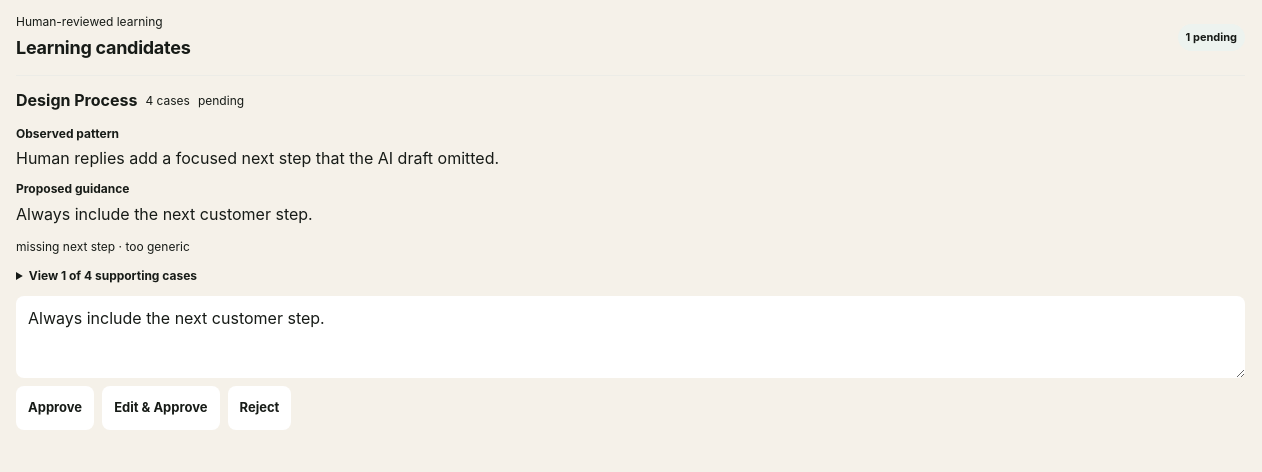
learning candidate review › shows a retryable error when an approval decision fails
Step 1. Click the button "Approve" → x=55, y=408, box [16,386,94,430]
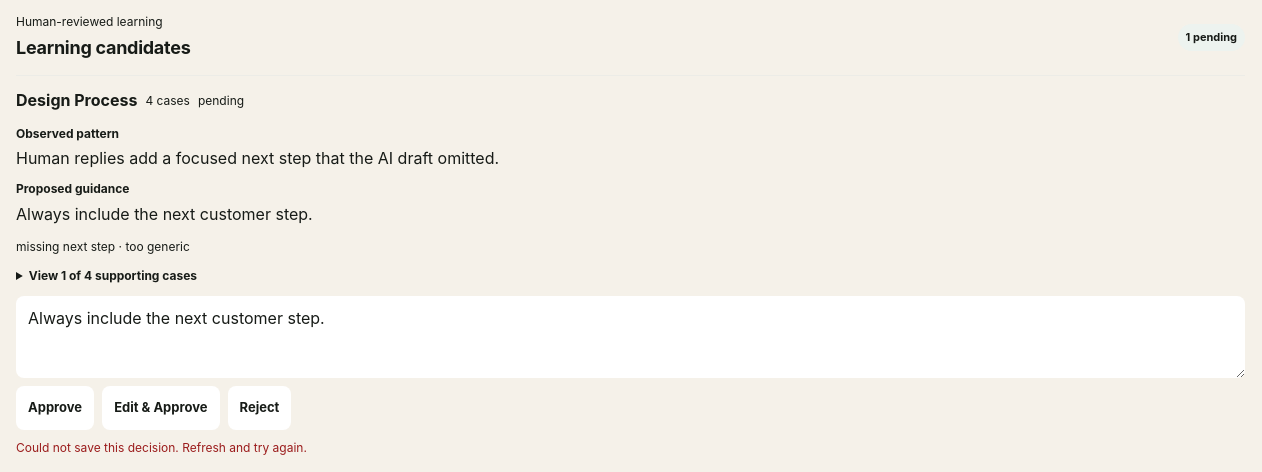
Expected: the text "1 pending" is shown, [1178,24,1245,51]
Result: the message shows "Could not save this decision" at [16,440,307,454]
